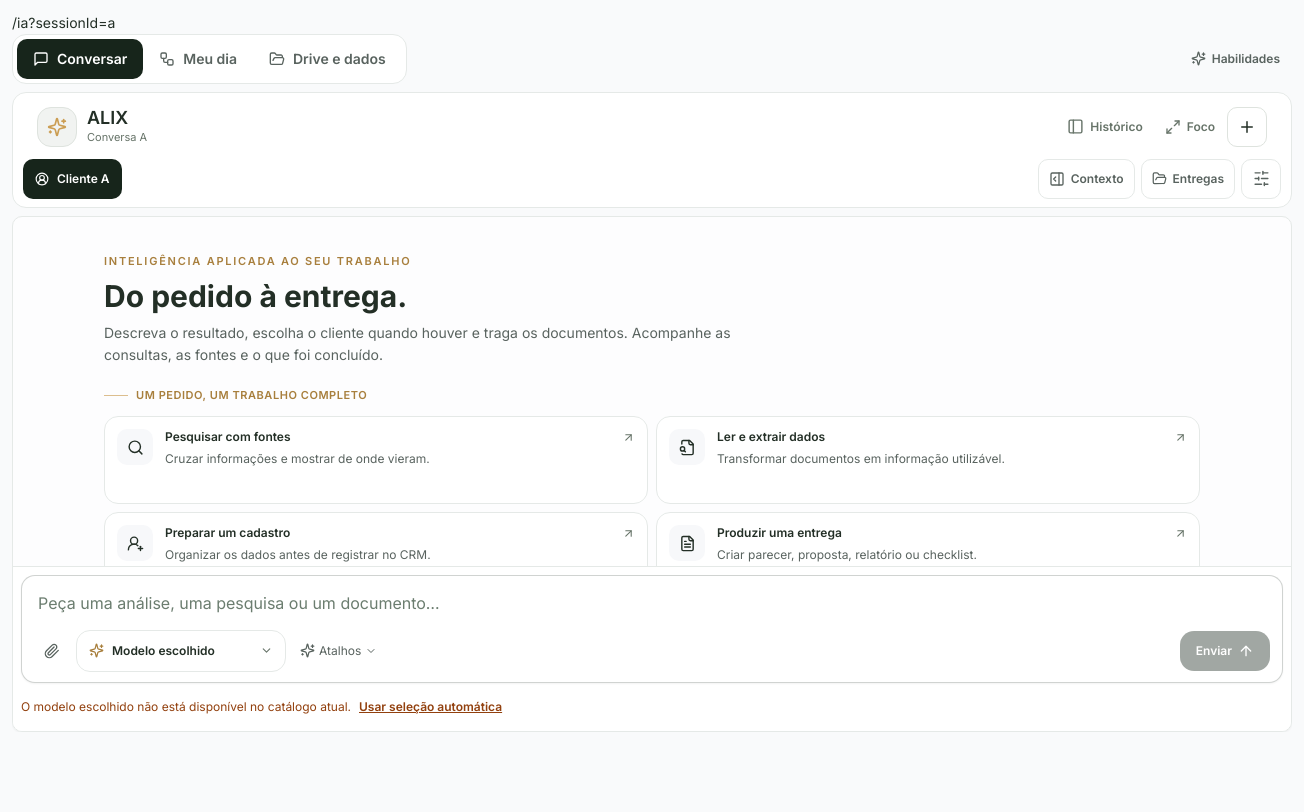
Continuidade e escopo da conversa ALIX › pendências e revisões seguem o cliente solicitado e descartam leituras antigas
Click the button "Cliente A": point(72, 179) [23,159,122,199]
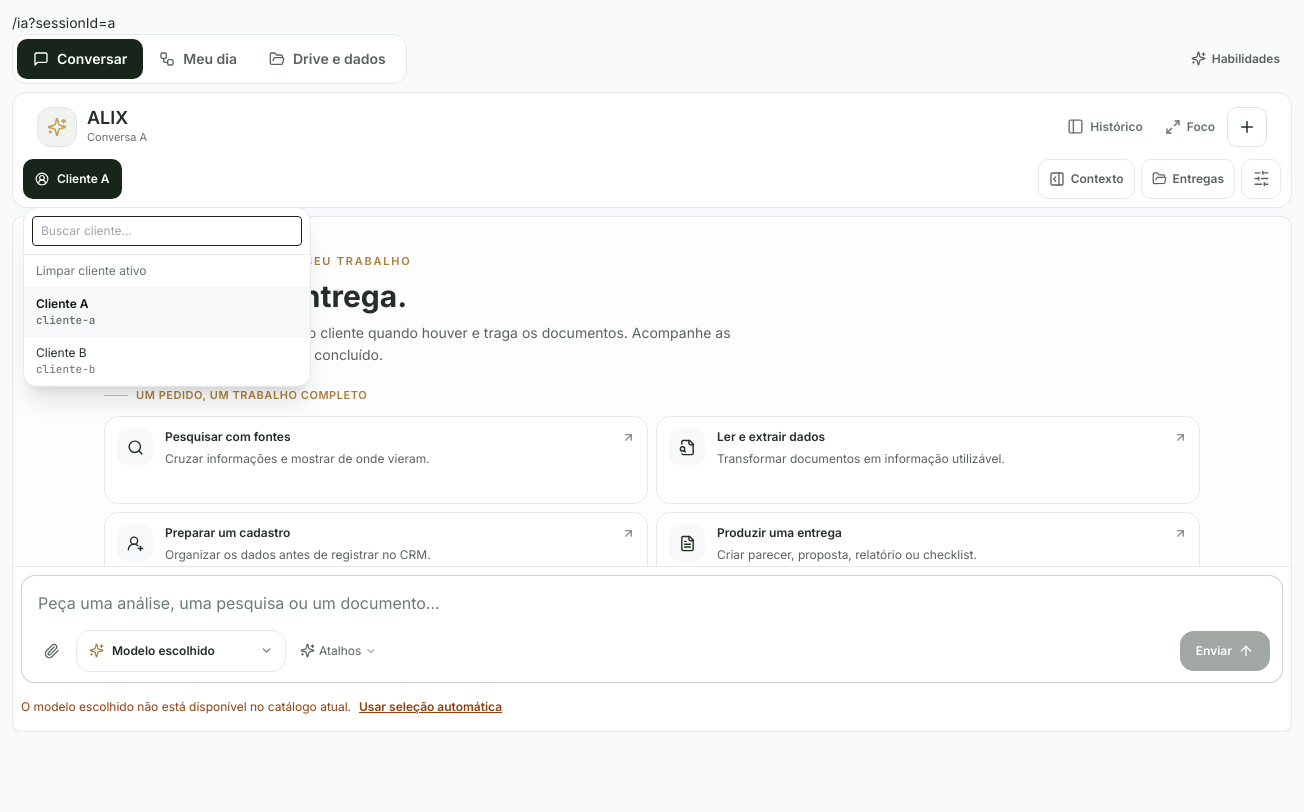
Click the button "Cliente B cliente-b": point(61, 352) [24,337,310,386]
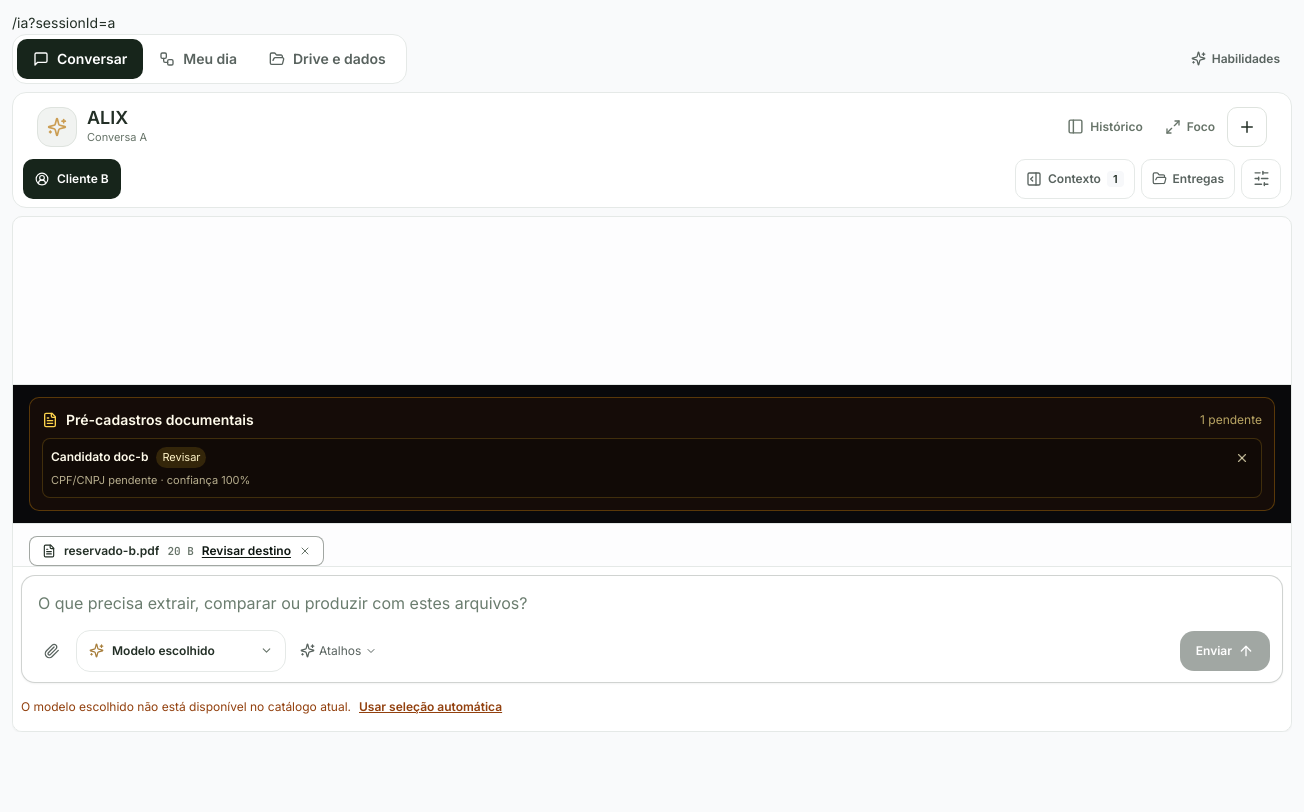
Check: the text "reservado-b.pdf" is shown, box [64,543,159,559]
Check: the text "Candidato doc-b" is shown, box [51,449,148,465]
